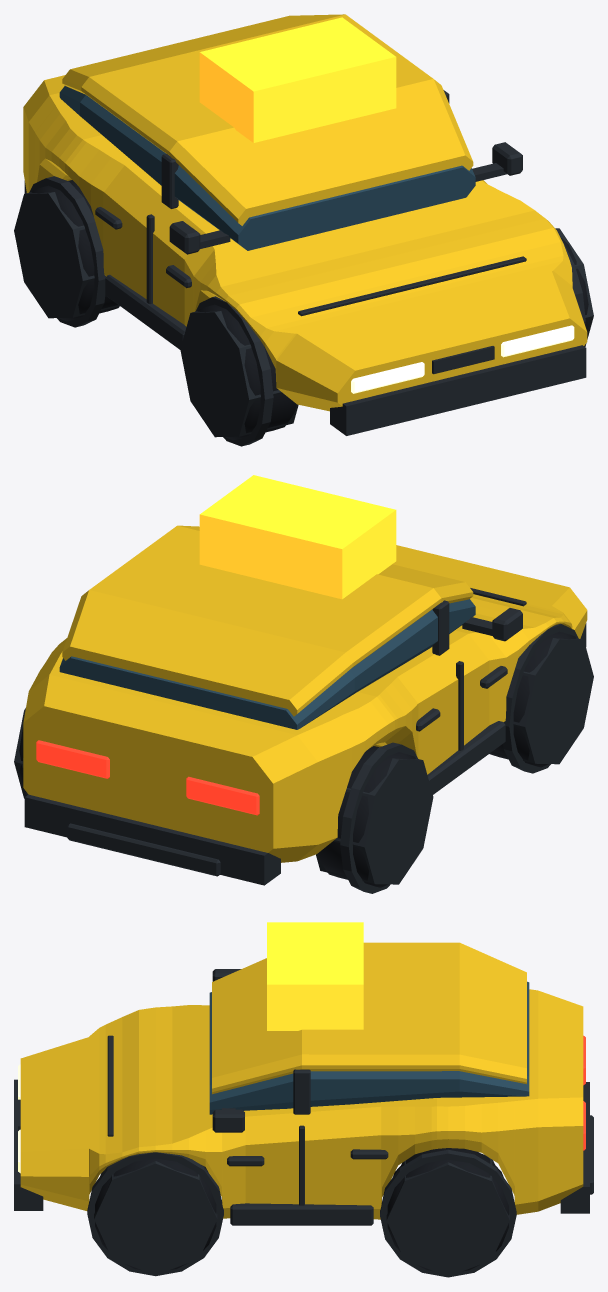
Rendered from hatch.glb.
3 views of the same model, one above another, from view 1: azimuth 30°, elevation 25°; view 2: azimuth 150°, elevation 25°; view 3: azimuth 270°, elevation 25° (orthographic). The views are drawn at different scales.
Visible parts, largest first — view 1: hatch_body, hatch_fleet_trim, hatch_trim, hatch_topper, hatch_glass, hatch_front_left_tyre, hatch_headlights, hatch_rear_left_tyre; view 2: hatch_body, hatch_fleet_trim, hatch_topper, hatch_trim, hatch_glass, hatch_taillights, hatch_rear_left_tyre, hatch_front_left_tyre; view 3: hatch_body, hatch_fleet_trim, hatch_trim, hatch_topper, hatch_glass, hatch_rear_right_tyre, hatch_front_right_tyre.
Part boxes in pixels (<box>): hatch_body: <box>23,14,587,411</box>; hatch_fleet_trim: <box>14,181,593,437</box>; hatch_trim: <box>29,90,585,446</box>; hatch_topper: <box>199,17,396,142</box>; hatch_glass: <box>59,86,475,250</box>; hatch_front_left_tyre: <box>197,304,296,440</box>; hatch_headlights: <box>351,325,574,393</box>; hatch_rear_left_tyre: <box>31,180,119,321</box>; hatch_body: <box>23,525,587,862</box>; hatch_fleet_trim: <box>14,623,593,885</box>; hatch_topper: <box>199,475,396,599</box>; hatch_trim: <box>22,588,584,893</box>; hatch_glass: <box>59,599,475,729</box>; hatch_taillights: <box>36,740,259,815</box>; hatch_rear_left_tyre: <box>317,746,415,887</box>; hatch_front_left_tyre: <box>489,631,576,767</box>; hatch_body: <box>20,942,583,1219</box>; hatch_fleet_trim: <box>14,1079,589,1276</box>; hatch_trim: <box>17,969,593,1277</box>; hatch_topper: <box>267,922,363,1030</box>; hatch_glass: <box>209,981,529,1114</box>; hatch_rear_right_tyre: <box>387,1148,508,1271</box>; hatch_front_right_tyre: <box>95,1158,216,1270</box>.
Bounding box in the file's own units: 2.7 × 2.08 × 4.33.
